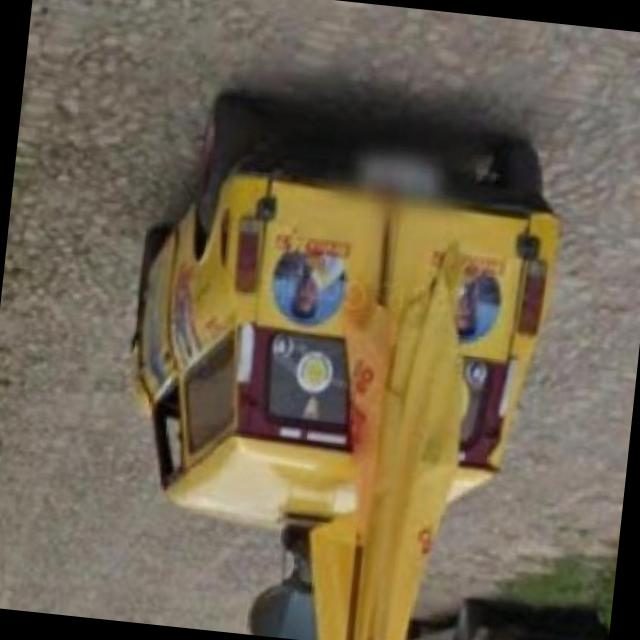car: (106, 80, 564, 538)
